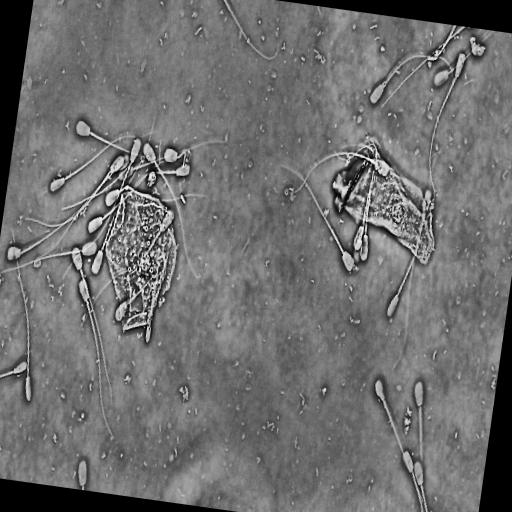coiled-tail: (365, 144, 379, 236), (177, 149, 191, 168)
dirt-particles: (329, 136, 437, 266), (104, 189, 179, 345), (469, 34, 487, 58), (146, 170, 157, 188)
loose-tail: (380, 27, 466, 111), (221, 0, 281, 63), (59, 163, 130, 213)
normal: (277, 161, 355, 274), (141, 140, 202, 280), (87, 137, 163, 236), (48, 128, 157, 194), (70, 244, 113, 407), (6, 190, 96, 263), (77, 276, 116, 442), (428, 51, 466, 199), (374, 376, 415, 486), (369, 53, 454, 106), (290, 152, 389, 195), (10, 224, 32, 404), (0, 239, 98, 278), (432, 31, 495, 89), (74, 117, 154, 162), (104, 183, 209, 209), (385, 245, 420, 322), (90, 197, 121, 276), (360, 143, 379, 261), (131, 163, 191, 189), (401, 448, 424, 512), (412, 379, 425, 474), (413, 460, 429, 512), (162, 145, 193, 170), (0, 359, 28, 380)
